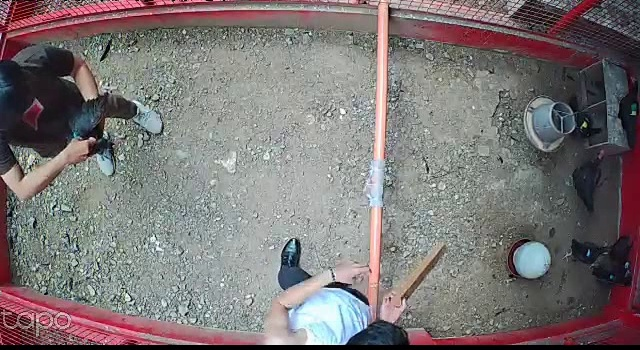Chicken: (563, 148, 607, 216), (610, 72, 640, 155), (558, 92, 602, 142), (559, 238, 611, 266)
Rooster: (609, 231, 637, 285)
Saddle_Color_Yellow: (580, 117, 589, 130)
Saddle_Color_YellowGreen: (629, 102, 638, 116)
